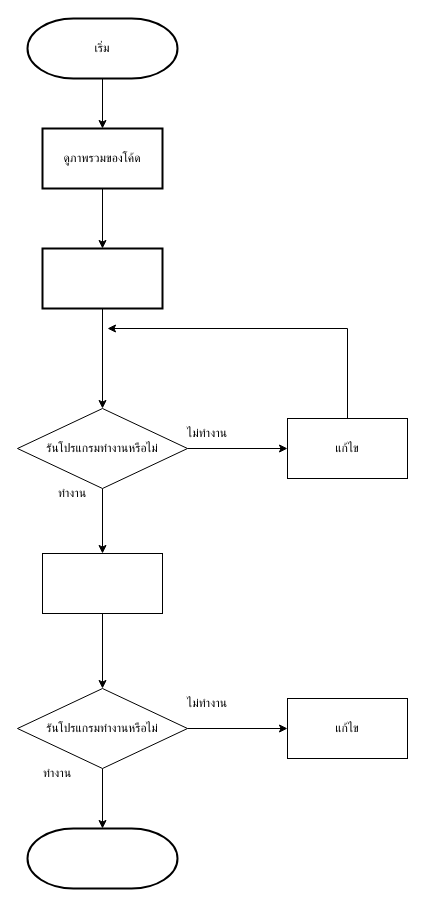
The diagram is 425 pixels wide and 906 high, and some of its shapes have lost their labels. Each missing label, with the centre of its shape:
"จบ" belongs at pixel 102 858.
"จัดcodex" belongs at pixel 102 583.
"หาจุดผิดพลาด" belongs at pixel 102 278.
